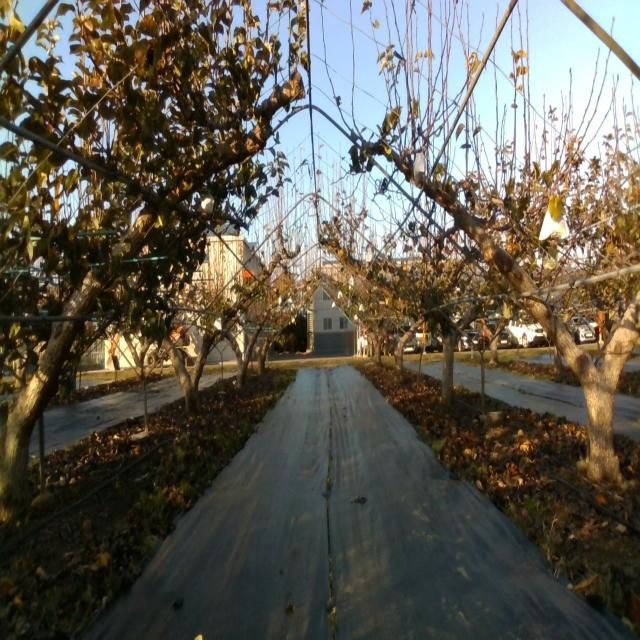pearbags: (538, 209, 570, 241), (198, 188, 215, 214), (414, 152, 426, 188)
